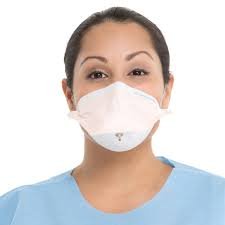mask: (65, 19, 173, 160)
